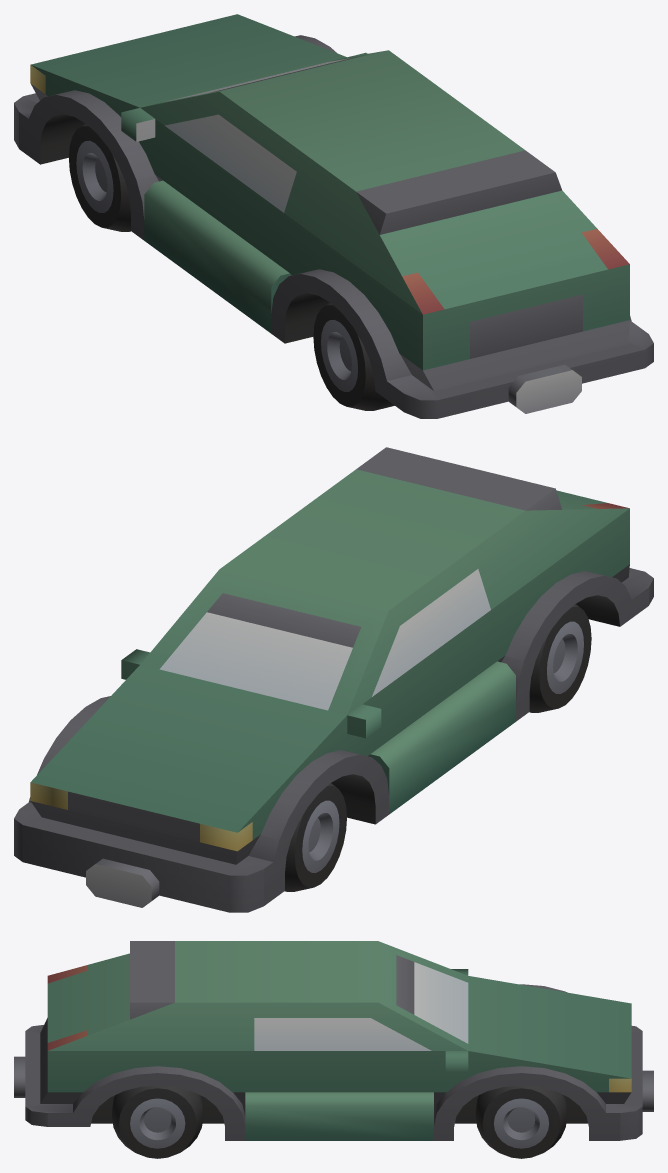
File: hatchback_sports.glb
3 renders of one model, top to bottom at view 1: azimuth 30°, elevation 25°; view 2: azimuth 150°, elevation 25°; view 3: azimuth 270°, elevation 25°, orthographic. The views are drawn at different scales.
Parts seen in each view (by area): view 1: body, wheel-back-left, wheel-front-left; view 2: body, wheel-back-left, wheel-front-left; view 3: body, wheel-front-right, wheel-back-right.
Boxes of the visible parts, x1=… form: body: x1=14, y1=14, x2=653, y2=418; wheel-back-left: x1=313, y1=302, x2=394, y2=410; wheel-front-left: x1=69, y1=123, x2=130, y2=231; body: x1=14, y1=447, x2=653, y2=912; wheel-back-left: x1=529, y1=604, x2=591, y2=712; wheel-front-left: x1=285, y1=783, x2=346, y2=891; body: x1=14, y1=941, x2=653, y2=1140; wheel-front-right: x1=475, y1=1085, x2=567, y2=1158; wheel-back-right: x1=112, y1=1085, x2=203, y2=1158.
Bounding box in the file's own units: 1.65 × 1.32 × 5.02.
Materials: 1 (1 with a texture image).
